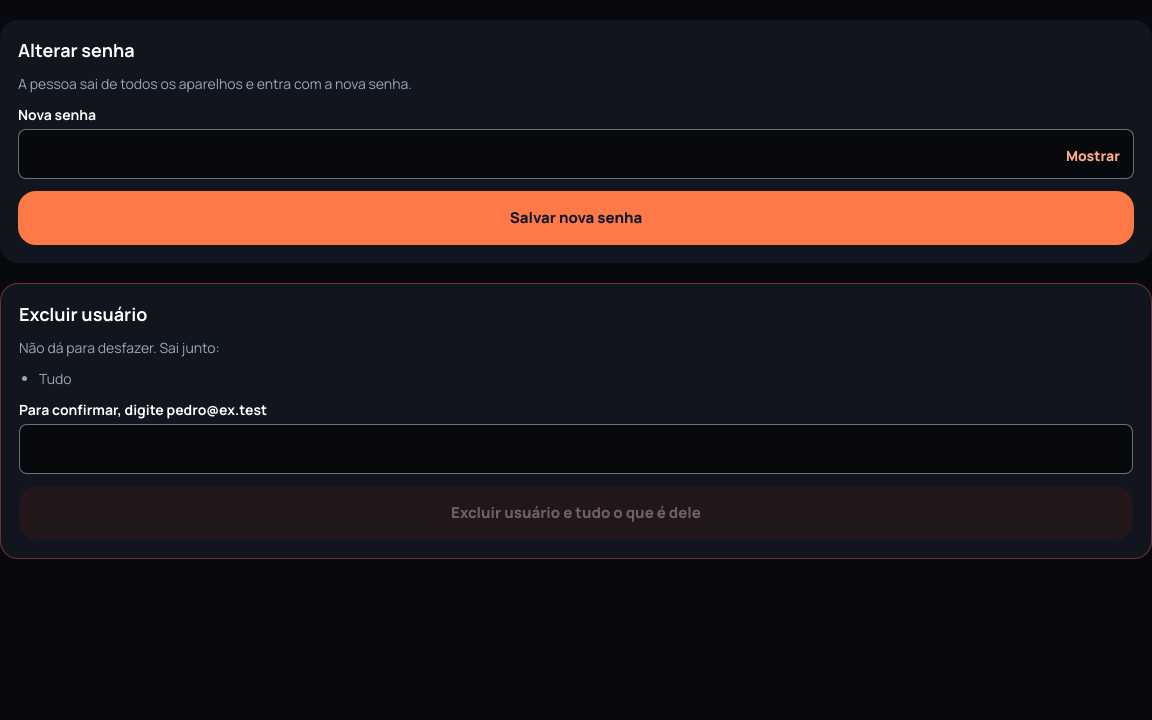
it: AdminUserActions › troca a senha e avisa que a pessoa precisa entrar de novo
The width and height of the screenshot is (1152, 720).
Type "nova-senha-123" into the password field labelled "Nova senha". click: x=576, y=154
box: left=18, top=129, right=1134, bottom=179
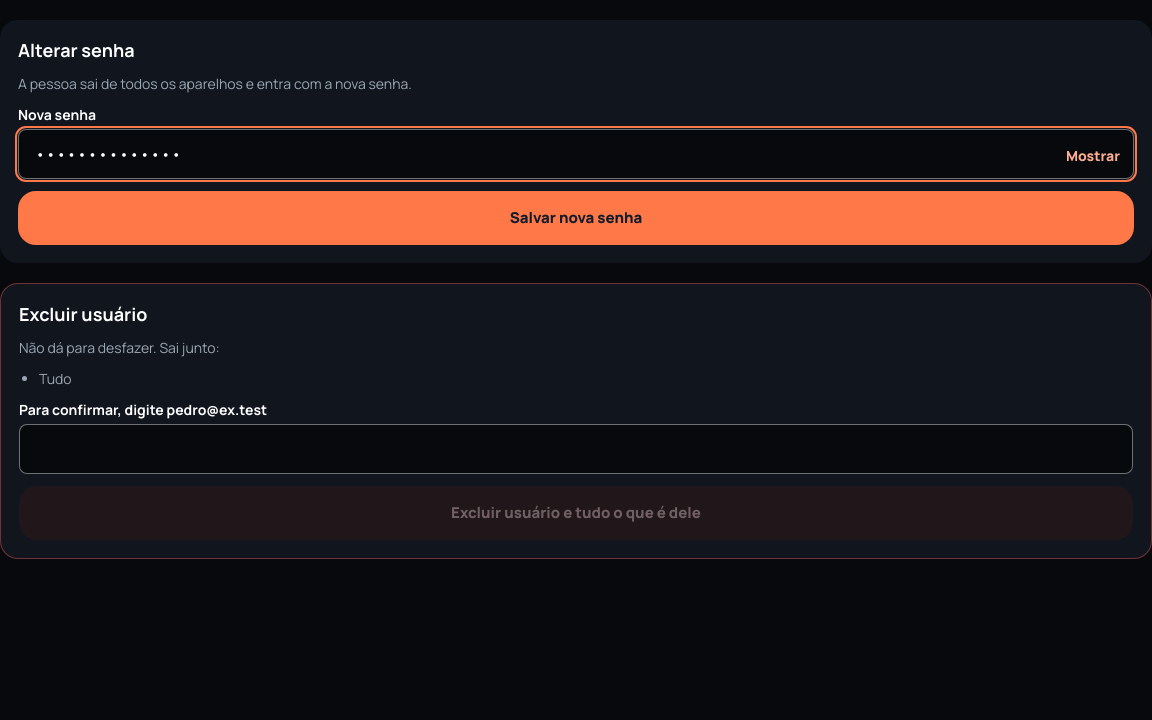
Click the button "Salvar nova senha". click: x=576, y=218
box: left=18, top=191, right=1134, bottom=245
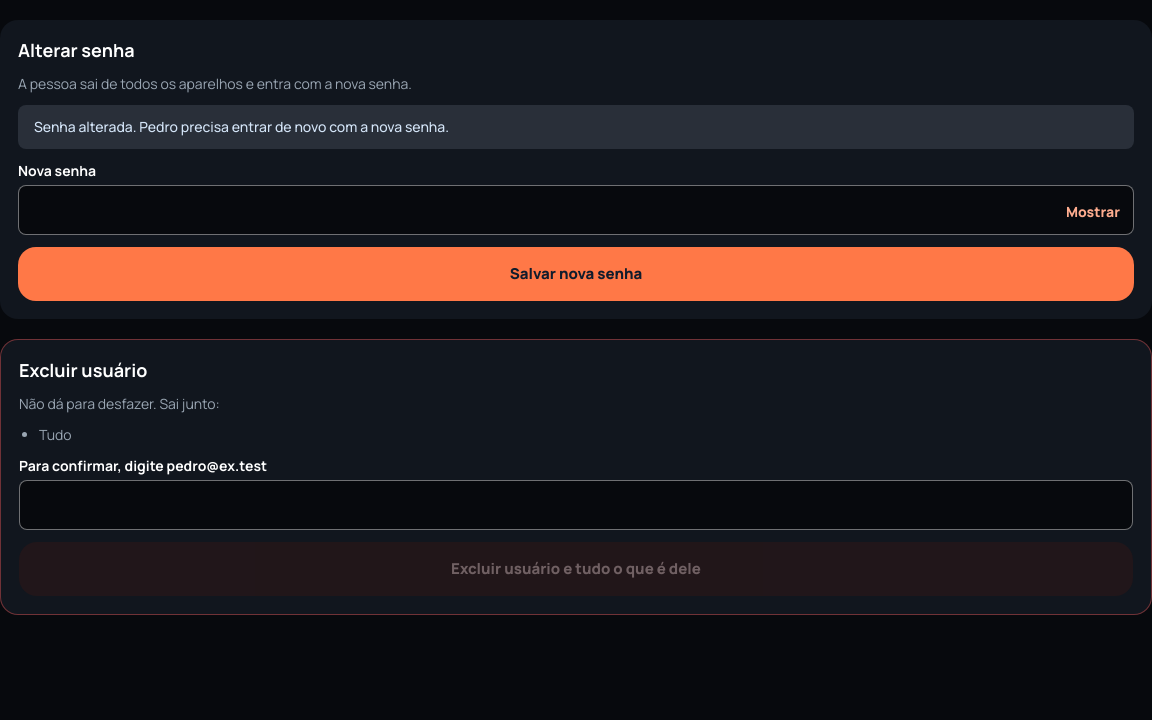
Check: the text "Senha alterada. Pedro precisa entrar de novo com a nova senha." is shown, box left=18, top=105, right=1134, bottom=149
